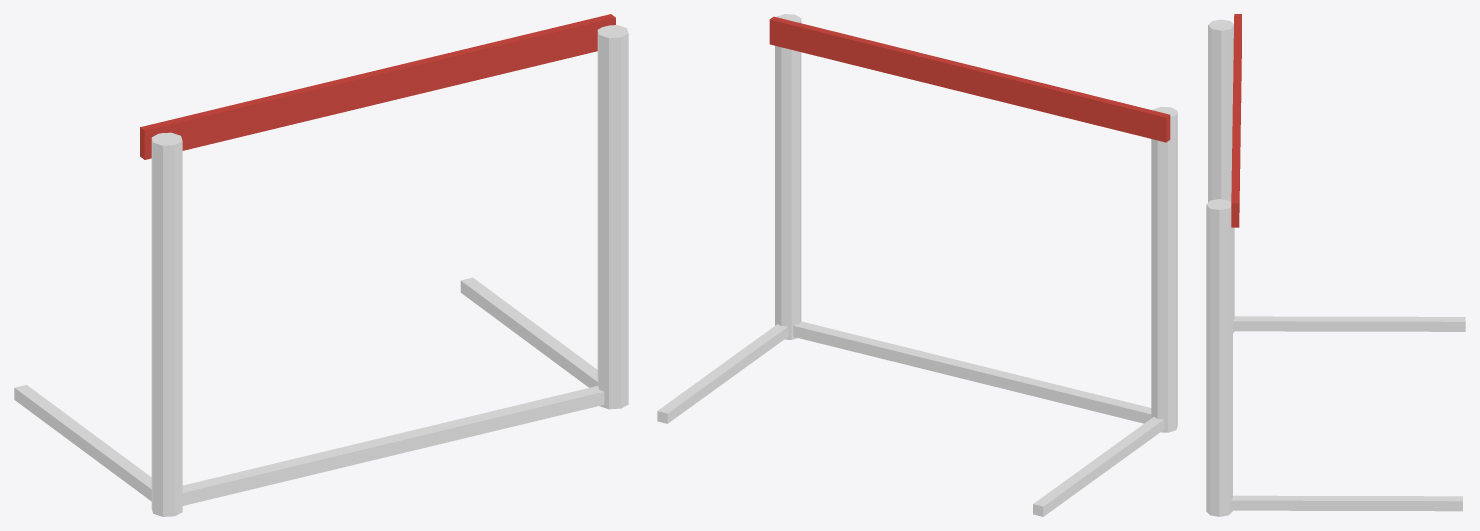
Rendered from hurdle.glb.
3 renders of one model, left to right at view 1: azimuth 30°, elevation 25°; view 2: azimuth 150°, elevation 25°; view 3: azimuth 270°, elevation 25°, orthographic. The views are drawn at different scales.
Visible parts, largest first — view 1: Cube, Cylinder.001, Cylinder, Cube.001, Cube.003, Cube.002; view 2: Cube, Cylinder.001, Cylinder, Cube.001, Cube.003, Cube.002; view 3: Cylinder, Cylinder.001, Cube.003, Cube.002, Cube.
Boxes of the visible parts, left/top/right/bottom form: Cube: left=140, top=14, right=615, bottom=159; Cylinder.001: left=151, top=132, right=182, bottom=516; Cylinder: left=597, top=25, right=628, bottom=409; Cube.001: left=182, top=386, right=604, bottom=505; Cube.003: left=14, top=385, right=151, bottom=501; Cube.002: left=460, top=277, right=597, bottom=387; Cube: left=769, top=16, right=1170, bottom=142; Cylinder.001: left=1151, top=106, right=1177, bottom=432; Cylinder: left=775, top=14, right=801, bottom=339; Cube.001: left=793, top=321, right=1151, bottom=423; Cube.003: left=1033, top=417, right=1164, bottom=516; Cube.002: left=657, top=324, right=787, bottom=423; Cylinder: left=1206, top=199, right=1232, bottom=516; Cylinder.001: left=1208, top=19, right=1234, bottom=332; Cube.003: left=1233, top=316, right=1465, bottom=331; Cube.002: left=1230, top=495, right=1462, bottom=511; Cube: left=1231, top=14, right=1241, bottom=227.
Size of the model in its own units: 1.15 by 0.8758 by 0.6597.
